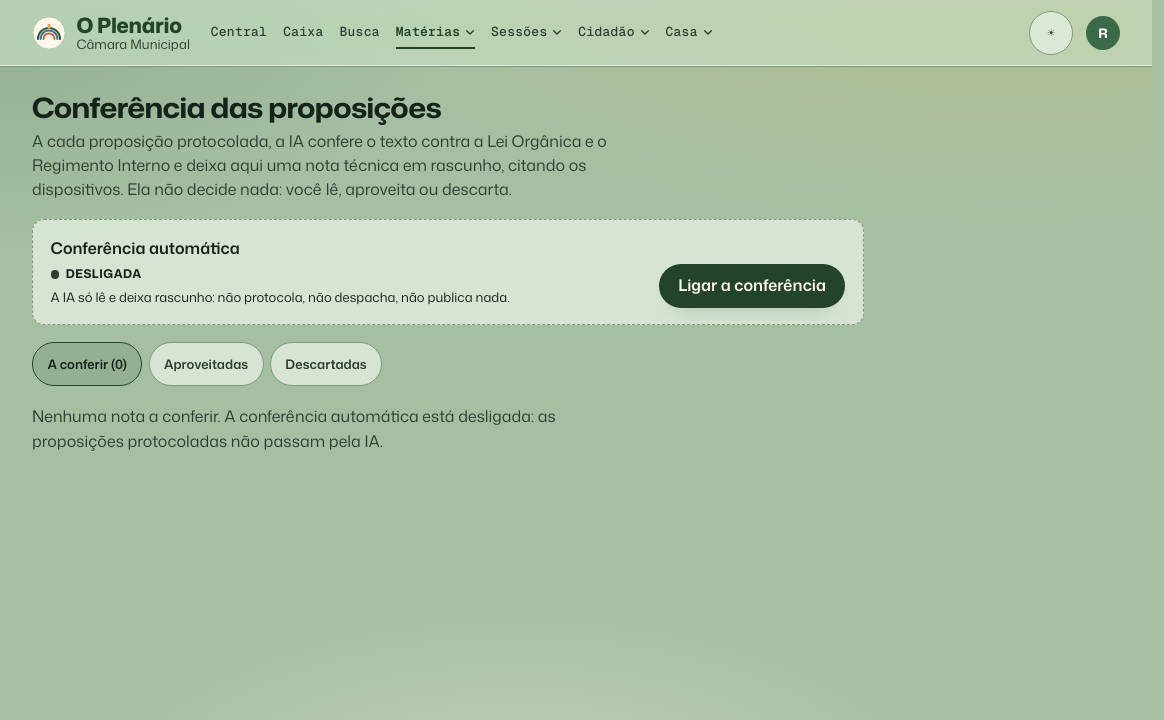
Scenario: conferências › o administrador liga a conferência; a fila vazia explica que está desligada
This screenshot has width=1164, height=720.
expect the text "A conferência automática está desligada" is shown: met, box top-left (32, 405), bottom-right (556, 452)
Click the button "Ligar a conferência" at (752, 286), box top-left (659, 264), bottom-right (845, 308)
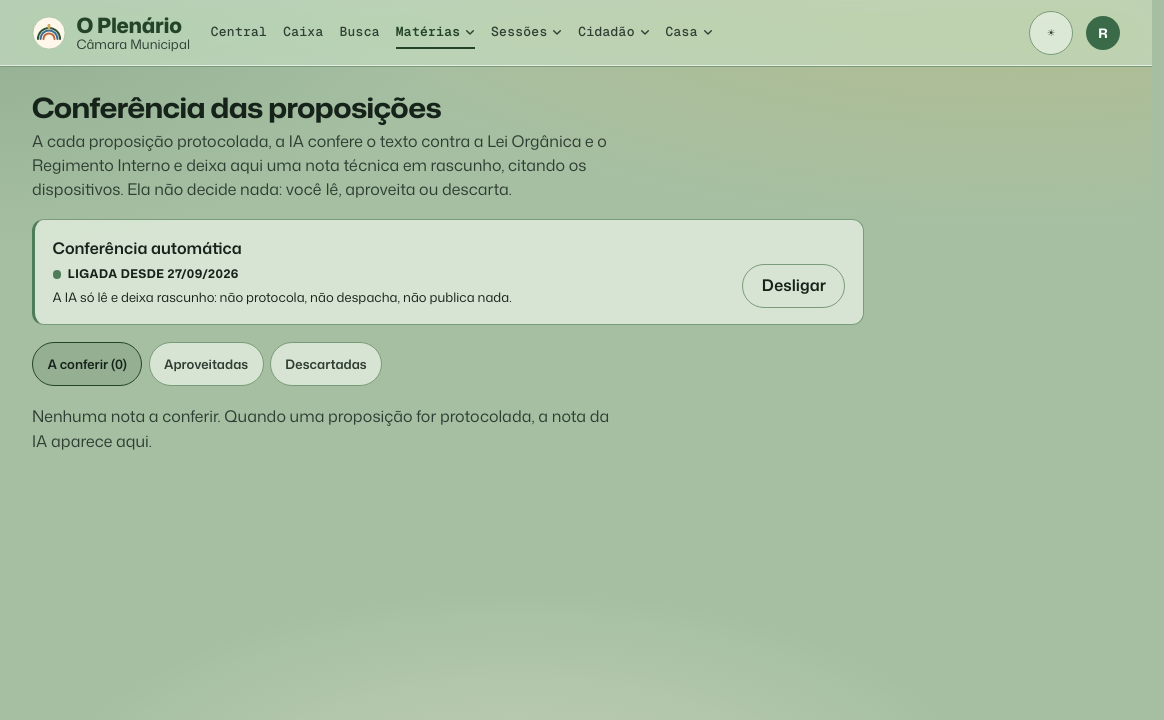
expect the button "Desligar" is shown: met, box top-left (742, 264), bottom-right (845, 308)
